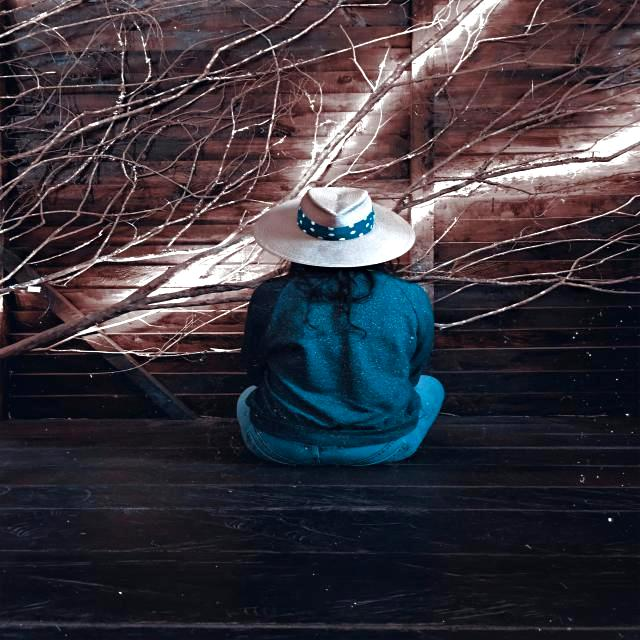no_hard_hat: (253, 186, 415, 268)
person: (237, 263, 444, 465)
